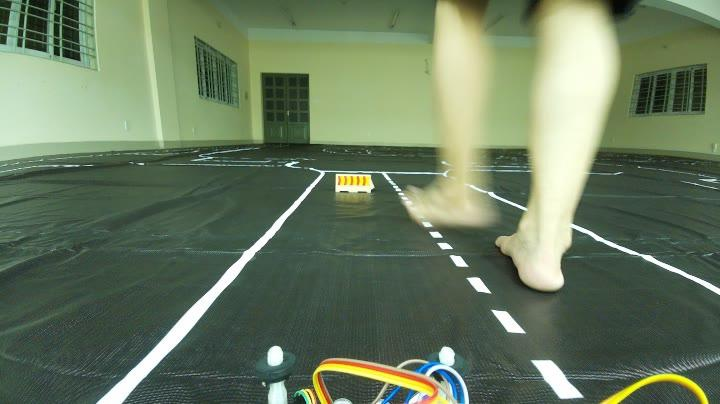roadblock: (326, 166, 378, 200)
